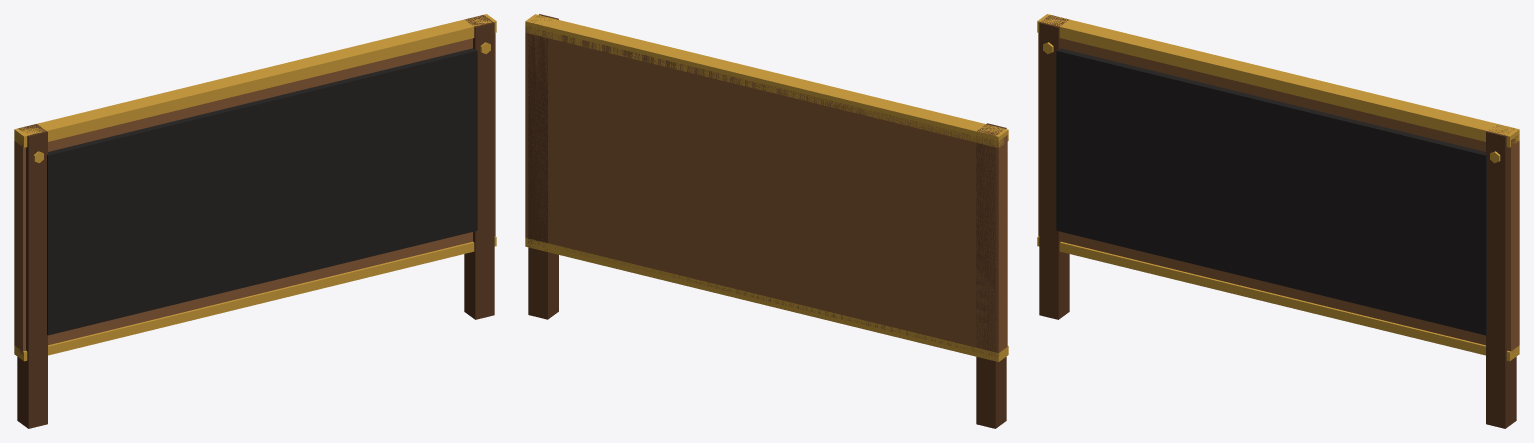
The model's file is LobbyBoard.fbx.
3 views of the same model, side by side, from view 1: azimuth 30°, elevation 25°; view 2: azimuth 150°, elevation 25°; view 3: azimuth 330°, elevation 25° (orthographic).
Parts seen in each view (by area): view 1: Screen, Frame, Detail; view 2: Frame, Detail; view 3: Screen, Frame, Detail.
Part boxes in pixels (x1,y1,x2,y2): Screen: [47, 48, 477, 335]; Frame: [14, 15, 495, 428]; Detail: [14, 14, 496, 361]; Frame: [525, 14, 1007, 428]; Detail: [525, 14, 1008, 361]; Screen: [1056, 48, 1486, 335]; Frame: [1038, 15, 1519, 428]; Detail: [1037, 14, 1519, 361].
Size of the model in its own units: 22 by 13 by 1.
